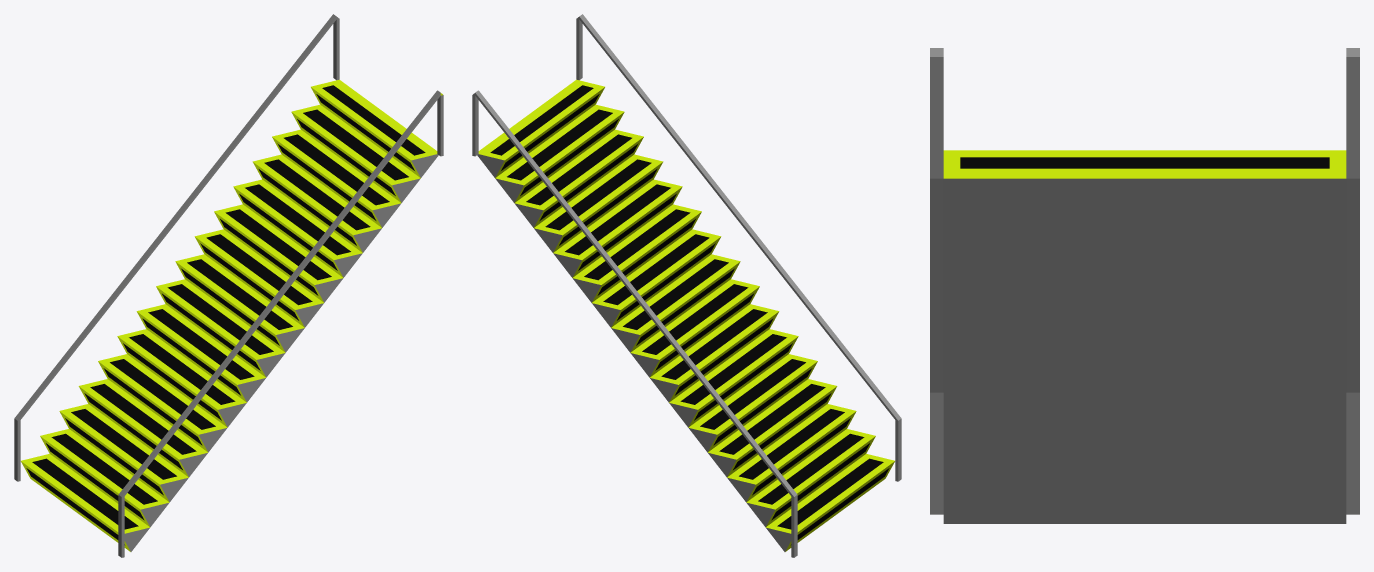
File: treppe.fbx
3 renders of one model, left to right at view 1: azimuth 30°, elevation 25°; view 2: azimuth 150°, elevation 25°; view 3: azimuth 270°, elevation 25°, orthographic. The views are drawn at different scales.
Parts seen in each view (by area): view 1: Stairs; view 2: Stairs; view 3: Stairs.
Part boxes in pixels (x1=…): Stairs: x1=14, y1=14, x2=443, y2=557; Stairs: x1=472, y1=14, x2=901, y2=557; Stairs: x1=930, y1=48, x2=1359, y2=523.
Size of the model in its own units: 1107 by 1273 by 640.
